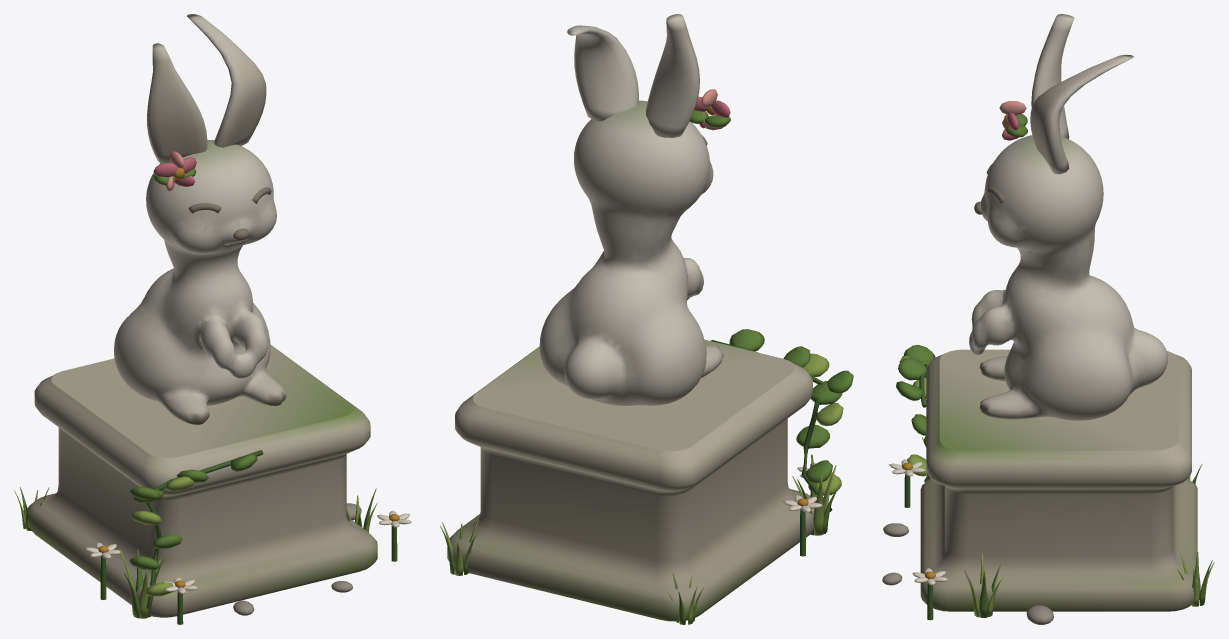
Rendered from DEC_Statue_Rabbit_A.fbx.
3 views of the same model, side by side, from view 1: azimuth 30°, elevation 25°; view 2: azimuth 150°, elevation 25°; view 3: azimuth 270°, elevation 25° (orthographic). The views are drawn at different scales.
Parts seen in each view (by area): view 1: DEC_Statue_Rabbit_A_LOD0; view 2: DEC_Statue_Rabbit_A_LOD0; view 3: DEC_Statue_Rabbit_A_LOD0.
Part boxes in pixels (x1,y1,x2,y2): DEC_Statue_Rabbit_A_LOD0: (14, 14, 411, 624); DEC_Statue_Rabbit_A_LOD0: (440, 14, 853, 624); DEC_Statue_Rabbit_A_LOD0: (882, 14, 1214, 624).
Size of what is drawn, in the model's own units: 0.9124 by 1.5 by 0.8759.
